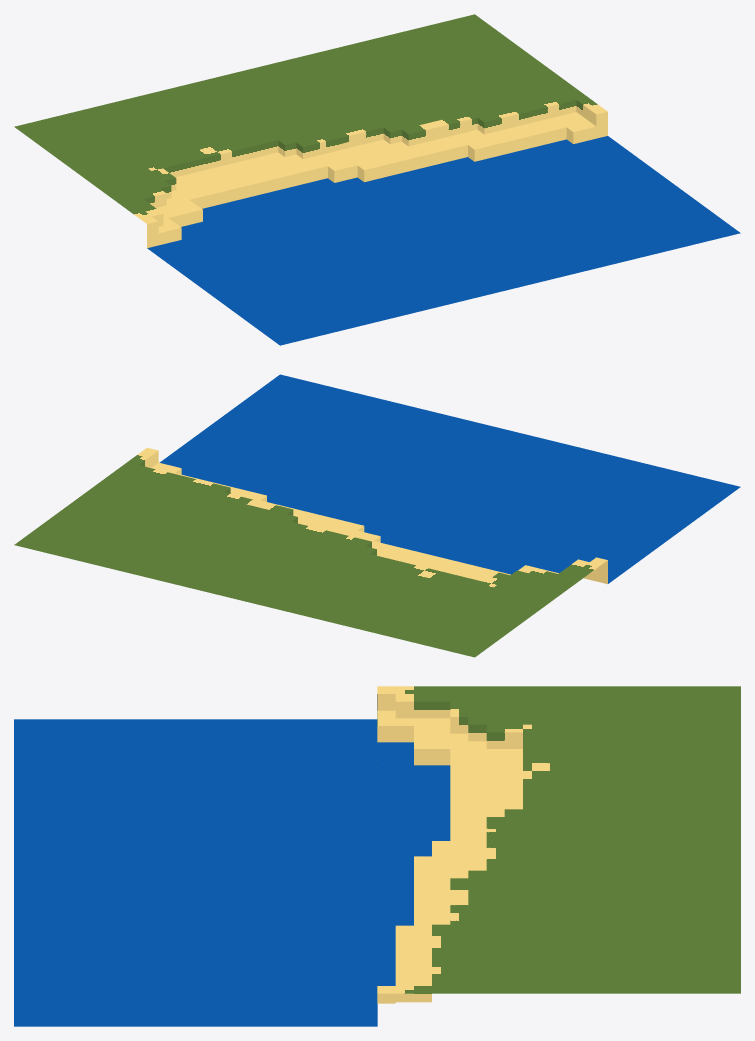
File: LLWW(2).glb
The picture shows the model from 3 angles, top to bottom: view 1: azimuth 30°, elevation 25°; view 2: azimuth 150°, elevation 25°; view 3: azimuth 270°, elevation 25°; orthographic projection. The views are drawn at different scales.
Parts seen in each view (by area): view 1: model_0.013; view 2: model_0.013; view 3: model_0.013.
Boxes of the visible parts, x1,y1,x2,y2 form: model_0.013: (14,14,740,345); model_0.013: (14,374,740,657); model_0.013: (14,686,740,1026).
Bounding box in the file's own units: 80 × 4 × 80.
1 material, 1 textured.
